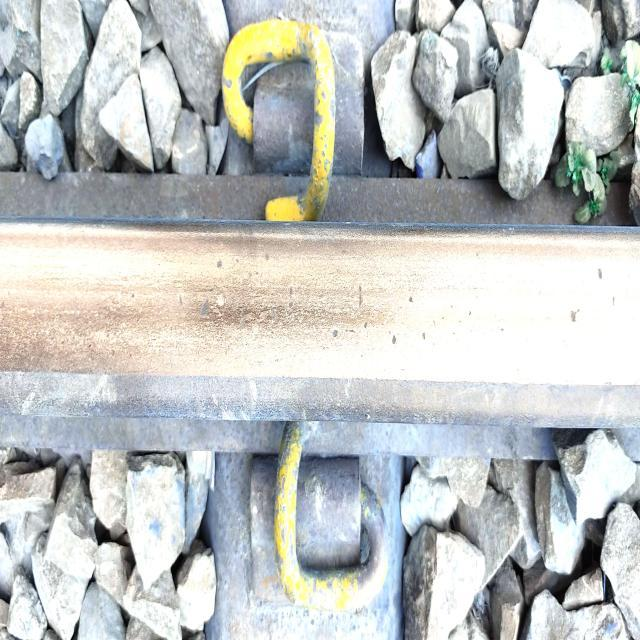Good Fasteners: (251, 422, 403, 612), (222, 19, 338, 221)
